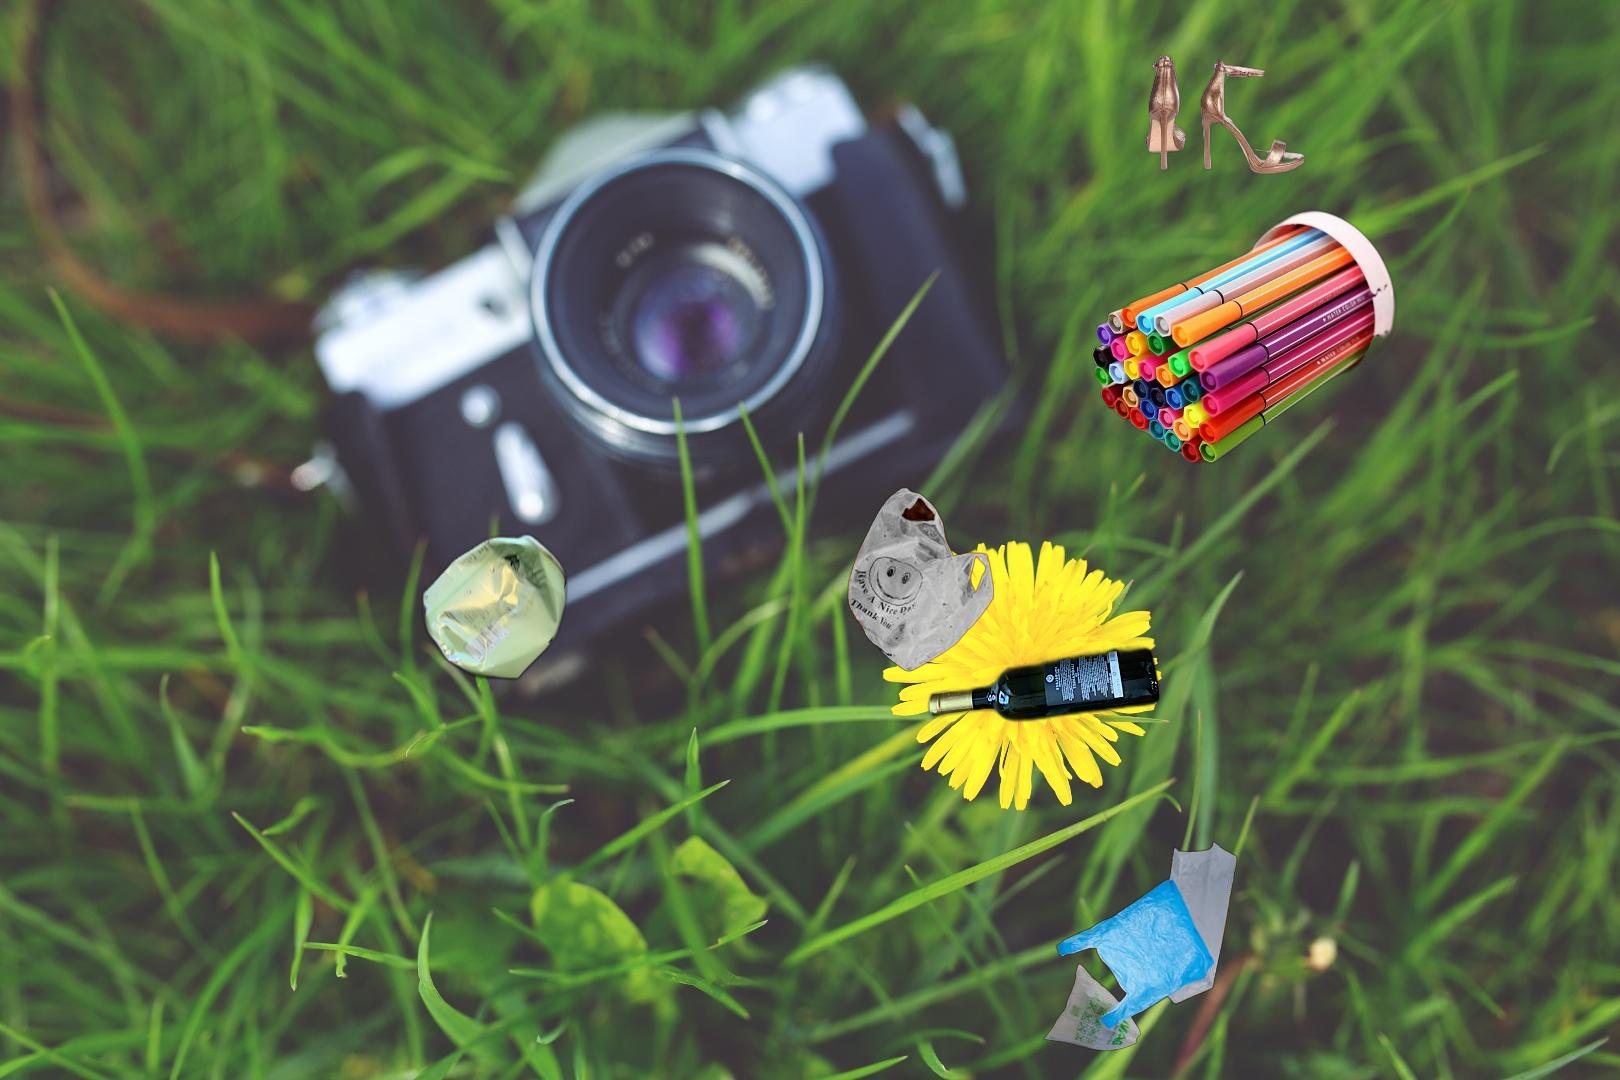glass: (925, 634, 1166, 728)
metal-cans: (418, 528, 573, 685)
penholder: (1088, 207, 1397, 466), (1522, 673, 1620, 1080)
plastic-bag: (1041, 839, 1238, 1053), (845, 485, 994, 695)
shoes: (1141, 52, 1308, 177)
